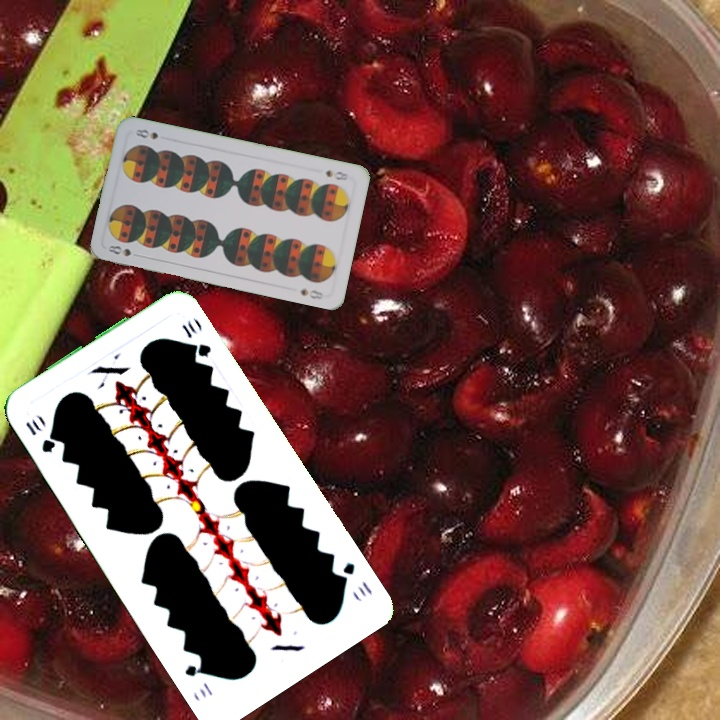G10: (333, 558, 376, 600), (21, 414, 59, 456)
S8: (104, 241, 134, 259), (321, 166, 351, 183)
